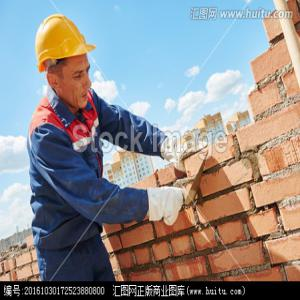yellow: (34, 17, 92, 113)
